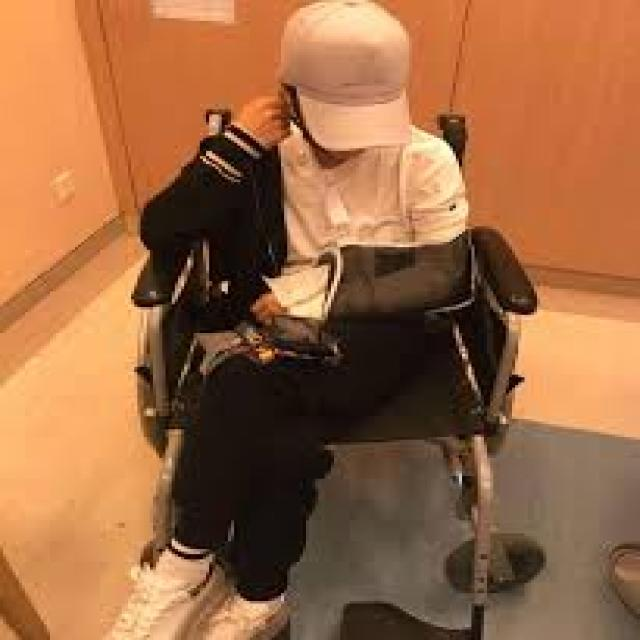wheelchairs: (134, 94, 556, 637)
